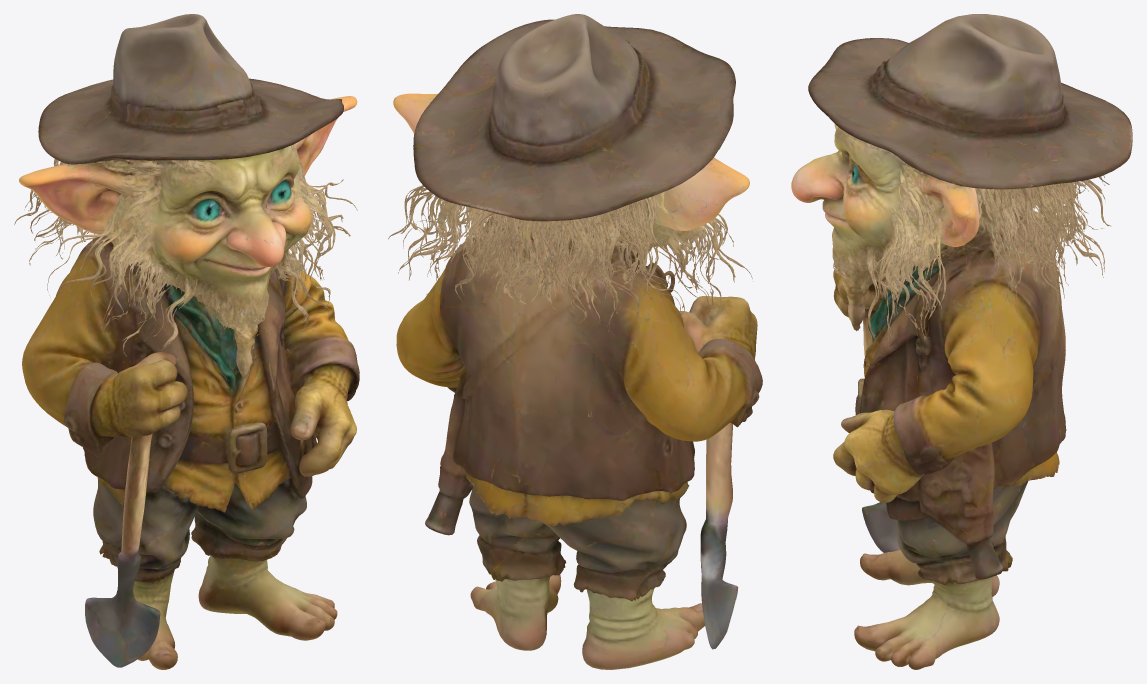
The model's file is gnome1.glb.
The picture shows the model from 3 angles, left to right: view 1: azimuth 30°, elevation 25°; view 2: azimuth 150°, elevation 25°; view 3: azimuth 270°, elevation 25°; orthographic projection. The views are drawn at different scales.
Bounding box in the file's own units: 1.12 × 1.9 × 0.9889.
1 material, 1 textured.
